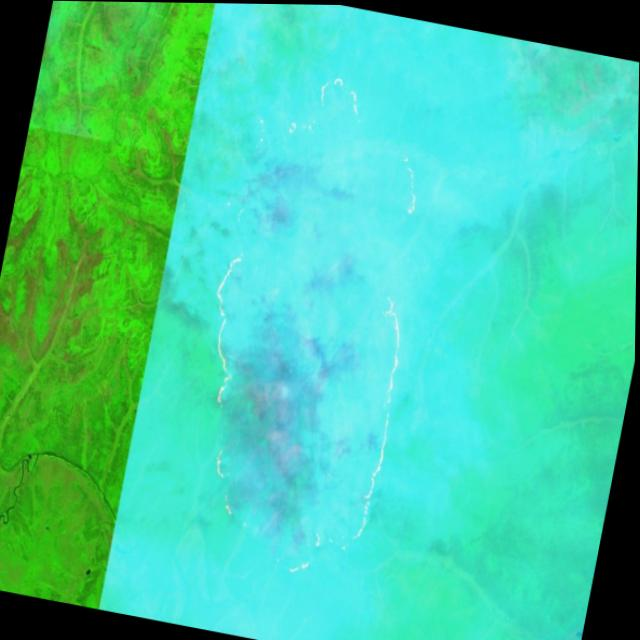fire: (164, 44, 459, 592)
